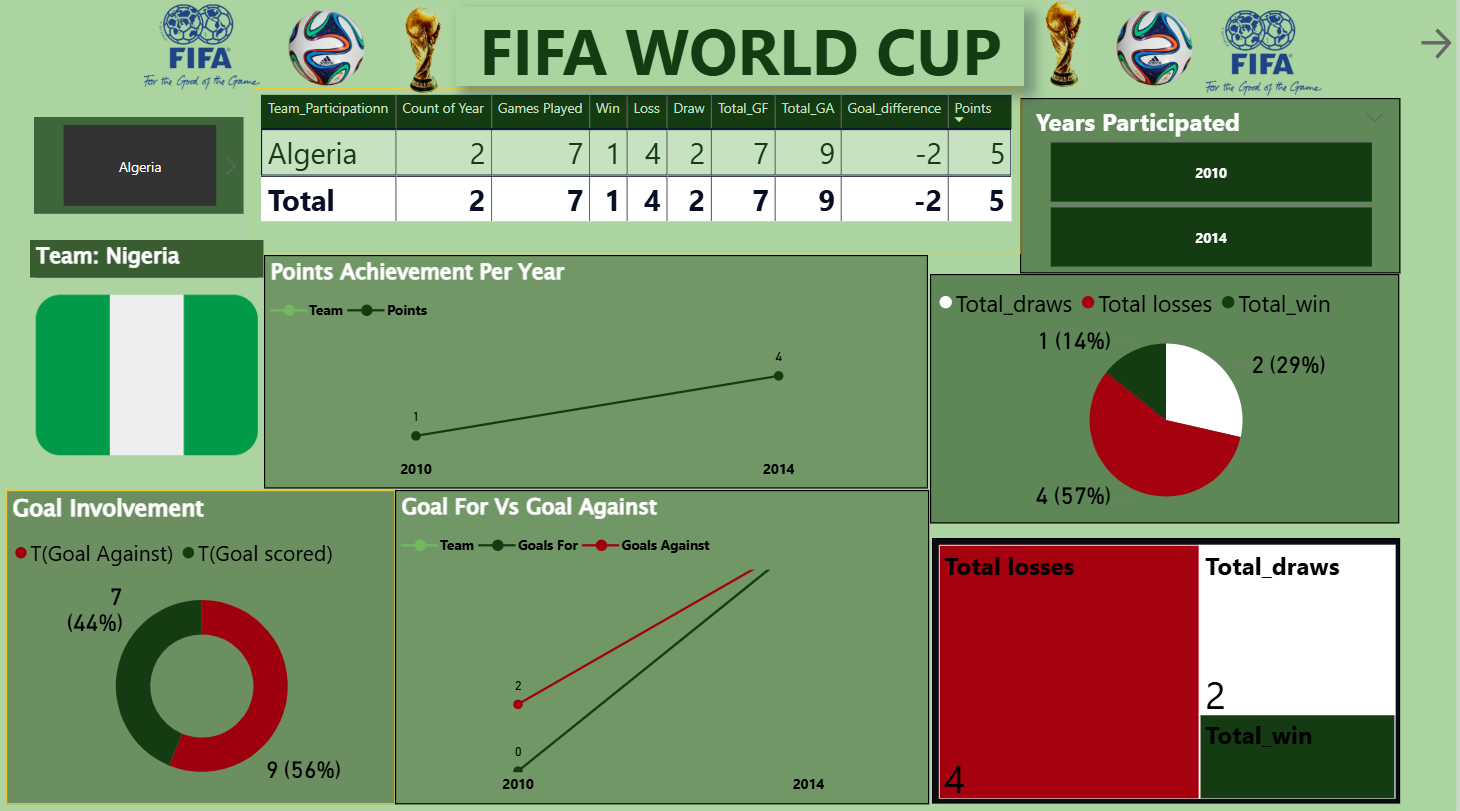

This screenshot's page, from the dashboard's own definition file:
{"tool":"powerbi","page":{"name":"Team Nigeria","canvas":[1280,720],"ordinal":2},"visuals":[{"type":"slicer","fields":{"Values":["WC_02-20.Year"]},"box":[897.2,92,333.6,154.5],"z":0},{"type":"donutChart","title":"Goal Involvement","fields":{"Y":["DAX1.Total_GA","DAX1.Total_GF"]},"box":[6.6,436,341.9,275.8],"z":1000},{"type":"treemap","fields":{"Values":["DAX1.T(Draws)","DAX1.Total_win","DAX1.Total losses"]},"box":[819.9,478.2,410.8,233.3],"z":2000},{"type":"lineChart","title":"Goal For Vs Goal Against","fields":{"Category":["WC_02-20.Year"],"Y2":["Sum(WC_02-20.Goals For)","Sum(WC_02-20.Goals Against)"],"Y":["CountNonNull(Team.Team_Participationn)"]},"box":[348.5,436,469.1,275.8],"z":3000},{"type":"tableEx","fields":{"Values":["Team.Team_Participationn","CountNonNull(WC_02-20.Year)","Sum(WC_02-20.Games Played)","Sum(WC_02-20.Win)","Sum(WC_02-20.Loss)","Sum(WC_02-20.Draw)","DAX1.Total_GF","DAX1.Total_GA","DAX1.Goal_difference","Sum(WC_02-20.Points)"]},"box":[223.5,83.8,673.7,146.2],"z":4000},{"type":"textbox","title":"FIFA WORLD CUP","box":[401.7,12.7,499.3,69.3],"z":5000},{"type":"image","box":[817.6,0,236.2,89.1],"z":6000},{"type":"image","box":[236.2,5.7,273,89.1],"z":7000},{"type":"image","box":[123.1,0,111.7,94.8],"z":8000},{"type":"image","box":[1055.2,5.7,111.7,94.8],"z":9000},{"type":"image","box":[239.1,0,99,94.8],"z":10000},{"type":"image","box":[966.1,0,99,94.8],"z":11000},{"type":"actionButton","box":[1244,24.6,36,39.3],"z":12000},{"type":"slicer","fields":{"Values":["Team.Team_Participationn"]},"box":[31.2,108.4,184,85.4],"z":13000},{"type":"pieChart","fields":{"Y":["DAX1.T(Draws)","DAX1.Total losses","DAX1.Total_win"]},"box":[818.3,246.5,412.4,218.5],"z":14000},{"type":"lineChart","title":"Points Achievement Per Year","fields":{"Category":["WC_02-20.Year"],"Y":["CountNonNull(Team.Team_Participationn)"],"Y2":["Sum(WC_02-20.Points)"]},"box":[233.3,230,583.3,205.4],"z":15000},{"type":"image","title":"Team: Nigeria","box":[27.9,216.9,205.4,208.7],"z":16000}]}

Visuals, with their boxes in screenshot pixels (x1, y1, x2, y2), scaled from the page's 1280x720 canvas onto the 1460x811 screenshot:
slicer - WC_02-20.Year: l=1023, t=104, r=1404, b=278
"Goal Involvement" donutChart: l=8, t=491, r=398, b=802
treemap - DAX1.T(Draws) x DAX1.Total_win: l=935, t=539, r=1404, b=801
"Goal For Vs Goal Against" lineChart: l=398, t=491, r=933, b=802
tableEx - Team.Team_Participationn x CountNonNull(WC_02-20.Year): l=255, t=94, r=1023, b=259
"FIFA WORLD CUP" textbox: l=458, t=14, r=1028, b=92
image: l=933, t=0, r=1202, b=100
image: l=269, t=6, r=581, b=107
image: l=140, t=0, r=268, b=107
image: l=1204, t=6, r=1331, b=113
image: l=273, t=0, r=386, b=107
image: l=1102, t=0, r=1215, b=107
actionButton: l=1419, t=28, r=1459, b=72
slicer - Team.Team_Participationn: l=36, t=122, r=245, b=218
pieChart - DAX1.T(Draws) x DAX1.Total losses: l=933, t=278, r=1404, b=524
"Points Achievement Per Year" lineChart: l=266, t=259, r=931, b=490
"Team: Nigeria" image: l=32, t=244, r=266, b=479
